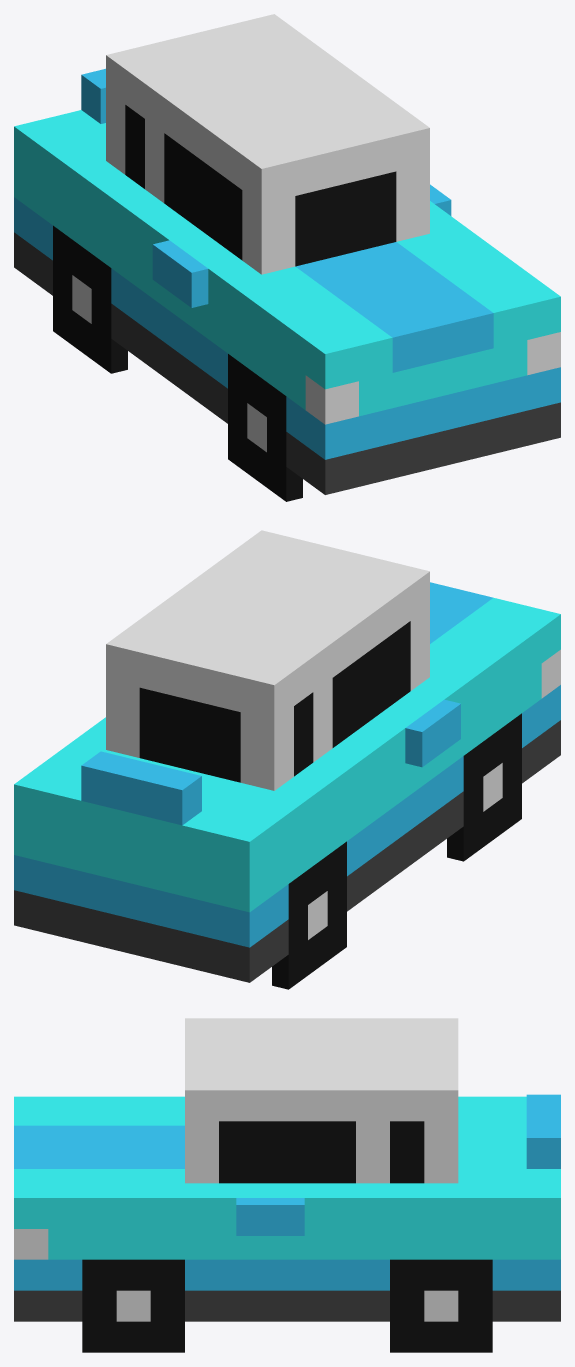
The model's file is roady_cross_assets-5.obj.
3 views of the same model, one above another, from view 1: azimuth 30°, elevation 25°; view 2: azimuth 150°, elevation 25°; view 3: azimuth 270°, elevation 25° (orthographic). The views are drawn at different scales.
Size of the model in its own units: 1.6 by 1.6 by 3.2.
1 material, 1 textured.
